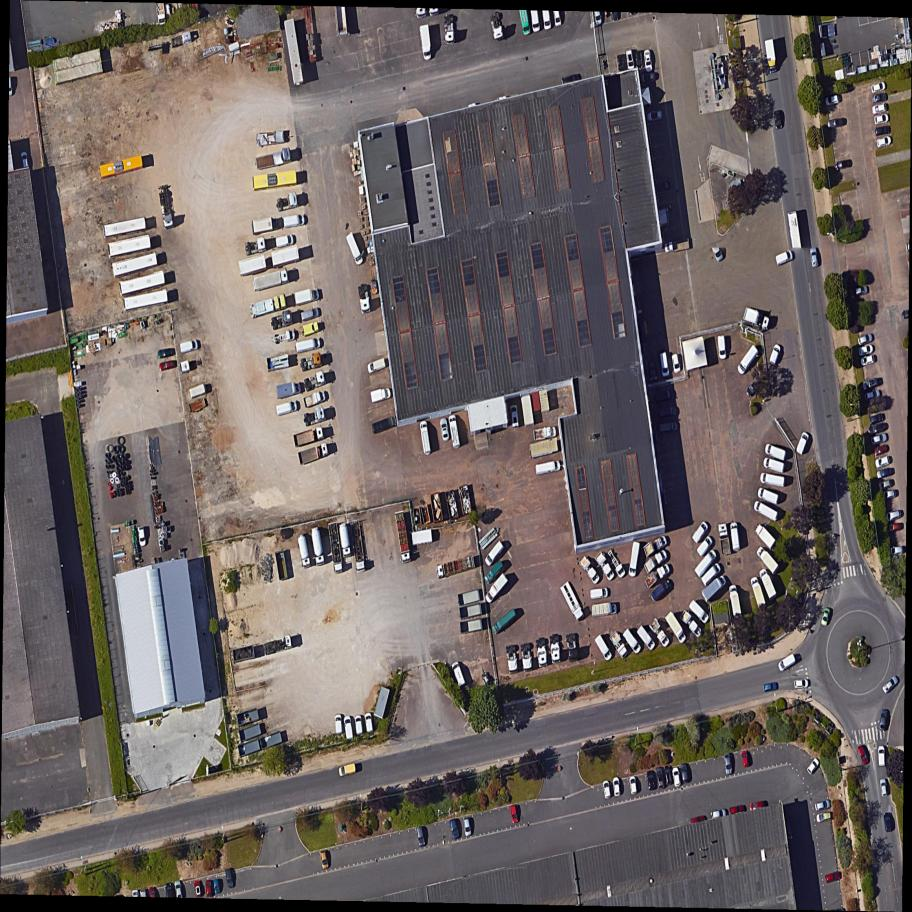large-vehicle: (227, 633, 295, 666), (115, 266, 169, 298), (658, 604, 693, 649), (554, 576, 588, 622), (109, 251, 161, 280), (248, 165, 298, 193), (485, 603, 523, 639), (644, 611, 675, 654), (105, 233, 154, 260), (586, 625, 617, 667), (96, 154, 145, 180), (432, 553, 478, 580), (640, 559, 676, 593), (100, 216, 150, 240), (749, 543, 783, 578), (695, 572, 731, 605), (247, 292, 289, 320), (732, 340, 762, 379), (121, 289, 171, 312), (629, 619, 660, 656), (483, 568, 513, 606), (340, 227, 367, 269), (673, 607, 706, 641), (293, 441, 333, 469), (253, 147, 296, 173), (296, 366, 333, 396), (615, 624, 647, 658), (683, 594, 717, 626), (348, 517, 367, 574), (588, 548, 618, 584), (604, 625, 633, 662), (600, 544, 629, 581), (737, 304, 775, 332), (291, 423, 330, 450), (393, 509, 412, 563), (325, 519, 344, 573), (640, 549, 674, 578), (251, 269, 293, 292), (645, 576, 677, 606), (691, 546, 720, 579), (749, 521, 780, 551), (750, 498, 784, 525), (415, 20, 436, 63), (771, 648, 803, 676), (575, 553, 602, 586), (157, 183, 176, 229), (478, 556, 507, 586), (640, 532, 673, 558), (273, 397, 305, 422), (292, 285, 324, 309), (757, 467, 788, 491), (747, 574, 768, 609), (756, 567, 778, 600), (482, 538, 507, 567), (272, 190, 303, 213), (269, 325, 301, 347), (528, 420, 560, 442), (301, 388, 332, 410), (369, 414, 400, 436), (294, 335, 326, 356), (363, 353, 391, 377), (241, 235, 270, 258), (792, 428, 814, 458), (310, 525, 326, 566), (698, 561, 724, 586), (274, 377, 301, 401), (588, 599, 620, 619), (301, 406, 330, 428), (762, 440, 791, 462), (753, 486, 783, 507), (771, 245, 798, 268), (688, 517, 711, 544), (279, 211, 310, 231), (355, 281, 373, 315), (447, 411, 463, 449), (787, 211, 803, 249), (417, 417, 433, 455), (694, 532, 717, 558), (176, 335, 203, 357), (626, 540, 641, 579), (296, 533, 312, 569), (728, 583, 743, 619), (717, 522, 732, 558), (533, 458, 562, 476), (367, 385, 393, 405), (764, 37, 778, 74), (338, 522, 352, 559), (299, 353, 326, 372), (761, 455, 788, 474), (449, 661, 468, 688), (299, 304, 324, 324), (441, 14, 457, 44), (728, 520, 744, 550), (565, 633, 580, 663), (520, 642, 534, 672), (535, 638, 549, 668), (658, 349, 672, 378), (518, 9, 533, 36), (505, 645, 519, 673), (336, 762, 359, 779), (342, 713, 355, 742), (549, 634, 562, 663), (351, 711, 366, 736), (362, 709, 376, 733), (541, 9, 554, 31), (530, 8, 542, 31), (883, 811, 894, 835), (333, 713, 344, 735), (879, 777, 889, 799)
small-vehicle: (661, 233, 692, 255), (707, 237, 729, 267), (878, 673, 903, 697), (766, 340, 785, 369), (854, 743, 872, 769), (803, 755, 823, 777), (271, 232, 296, 249), (865, 420, 890, 437), (437, 415, 451, 443), (414, 824, 428, 850), (877, 707, 891, 733), (172, 878, 186, 903), (653, 765, 667, 790), (448, 817, 462, 842), (807, 245, 821, 270), (318, 849, 333, 872), (722, 751, 735, 777), (679, 761, 692, 787), (600, 778, 614, 802), (812, 798, 833, 814), (669, 765, 683, 789), (825, 116, 849, 130), (860, 376, 880, 392), (868, 80, 888, 96), (855, 331, 875, 347), (868, 431, 889, 446), (823, 870, 844, 885), (822, 93, 843, 108), (162, 880, 175, 904), (136, 525, 149, 549), (716, 335, 728, 361), (157, 359, 179, 373), (884, 509, 904, 524), (874, 135, 894, 150), (642, 48, 654, 73), (591, 4, 604, 27), (156, 347, 177, 361), (716, 62, 728, 86), (819, 606, 832, 628), (873, 455, 892, 470), (863, 388, 882, 403), (814, 810, 833, 825), (589, 586, 609, 600), (628, 774, 640, 797), (224, 867, 236, 890), (462, 817, 474, 840), (670, 351, 682, 374), (611, 775, 622, 800), (509, 404, 520, 429), (871, 443, 889, 458), (852, 283, 870, 298), (857, 343, 875, 358), (876, 479, 895, 493), (688, 814, 707, 828), (870, 102, 889, 116), (645, 109, 664, 123), (509, 803, 520, 827), (560, 72, 580, 85), (708, 807, 728, 820), (625, 48, 636, 71), (774, 108, 785, 131), (858, 354, 876, 368), (646, 771, 658, 792), (663, 763, 673, 788), (886, 520, 905, 533), (761, 681, 780, 694), (873, 124, 892, 137), (748, 799, 768, 811), (875, 467, 893, 480), (868, 412, 886, 425), (20, 150, 31, 171), (880, 488, 897, 501), (871, 92, 888, 105), (875, 745, 886, 765), (139, 885, 149, 907), (835, 159, 853, 171), (130, 889, 141, 908), (147, 886, 158, 905), (873, 113, 890, 125), (741, 750, 751, 770), (728, 804, 746, 815), (640, 71, 656, 83), (193, 879, 203, 898), (634, 49, 644, 68), (5, 76, 14, 97), (888, 546, 904, 557), (794, 678, 810, 689), (617, 53, 626, 72), (205, 879, 214, 897), (213, 877, 222, 894)
